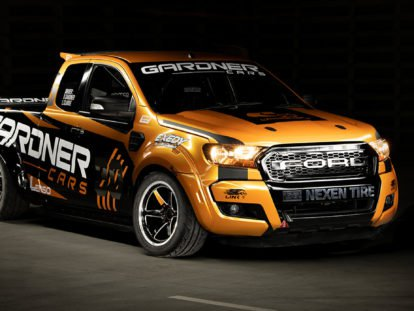car: (4, 50, 403, 265)
